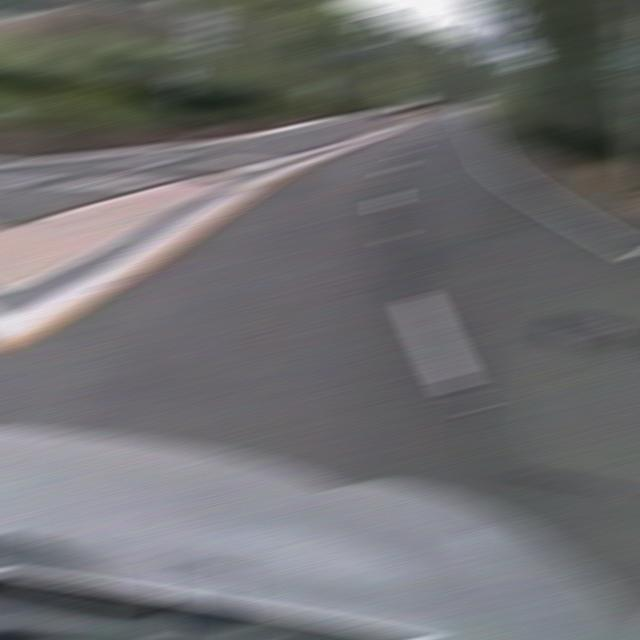speedLimit50: (182, 10, 227, 54)
